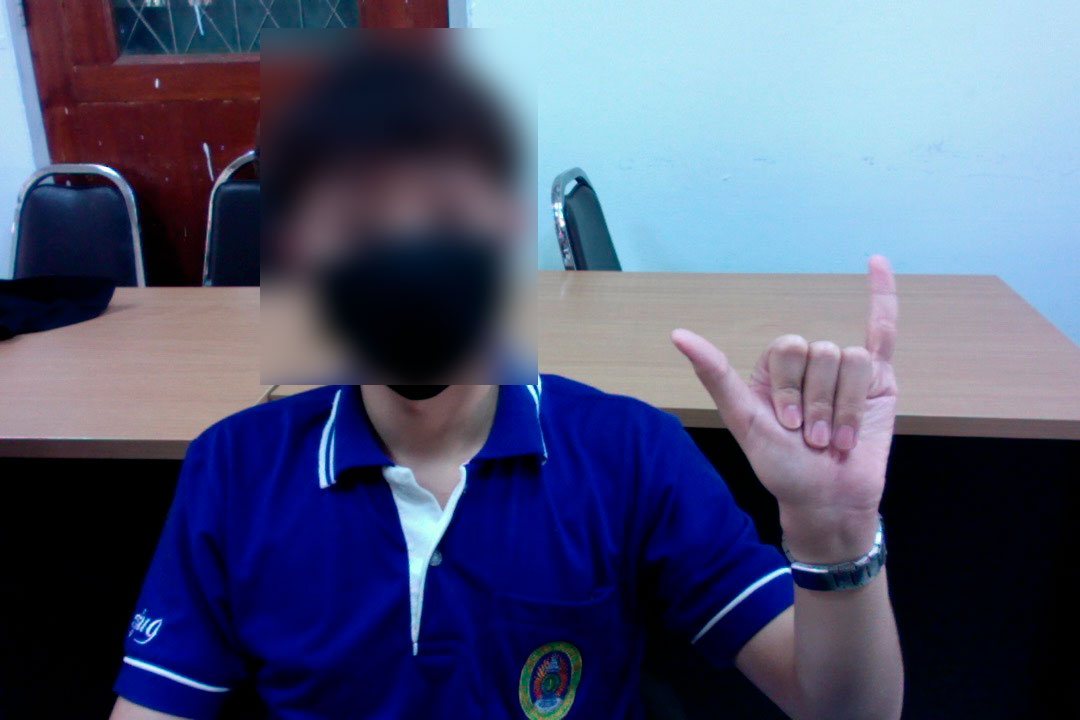yor: (653, 244, 908, 528)
